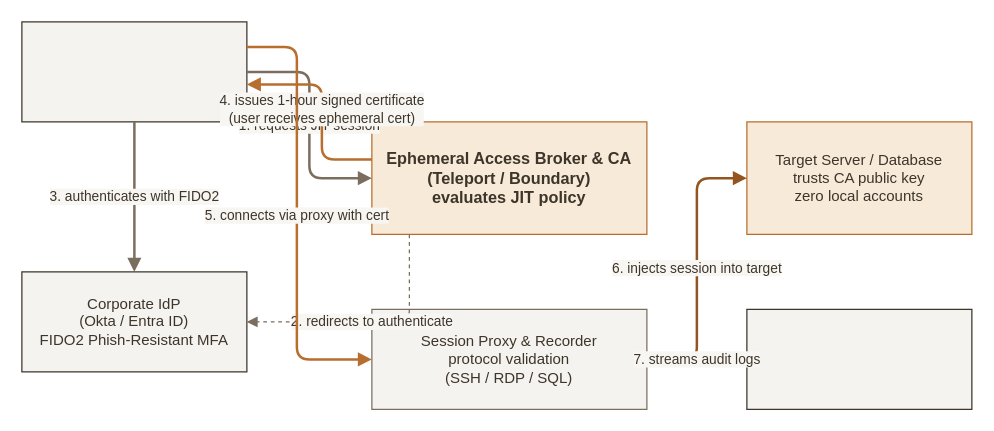
This 994x431 diagram has some shape labels left out. Here are the shapes that lost their labels. From the top down, the centre of each, then its label:
At (134,71): "Engineer / Operator requires emergency access".
At (859,358): "SIEM & Audit Storage keystroke logs + video".
